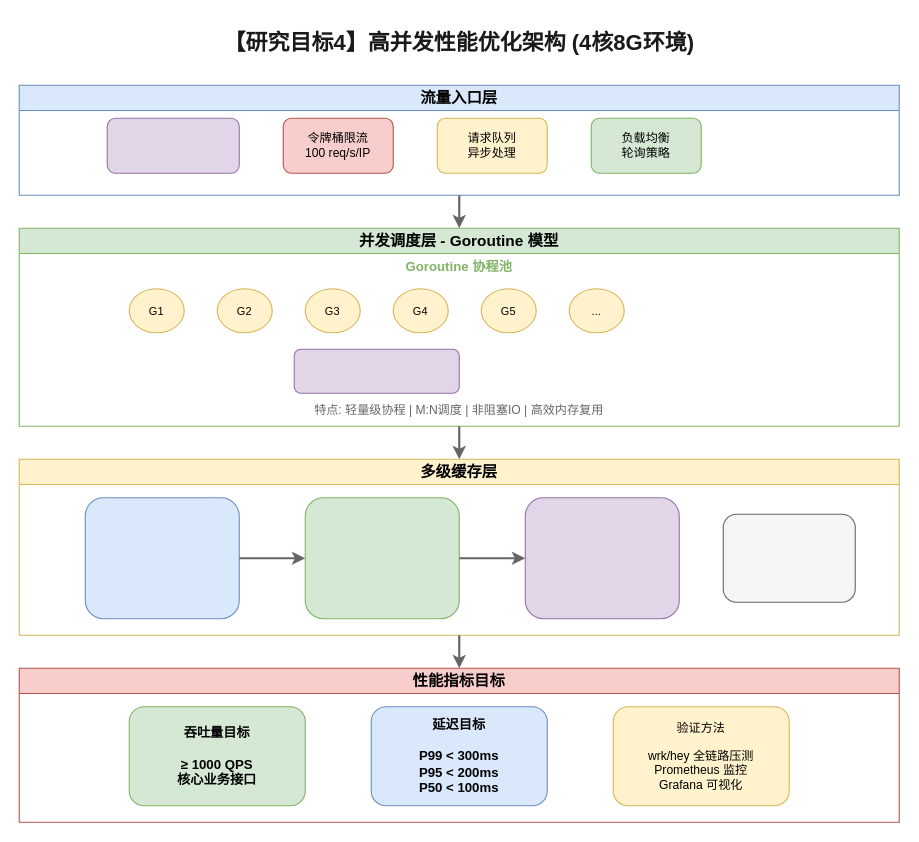
Image size: 919x842. Some labels were removed from this diagram. The centre of each missing label's shape, as x and y in pixels:
API Gateway: the point at 172,145
Channel 通信管道: the point at 376,370
L1 本地缓存 ├─ 热点数据 ├─ 会话信息 └─ 配置信息 命中率: ~90%: the point at 161,558
L2 Redis ├─ 分布式缓存 ├─ 会话共享 └─ 分布式锁 命中率: ~95%: the point at 381,558
L3 数据库 ├─ PostgreSQL ├─ 持久化存储 └─ 事务支持 兜底查询: the point at 601,558
缓存策略: LRU淘汰 | TTL过期 写穿透 | 缓存预热: the point at 788,557
